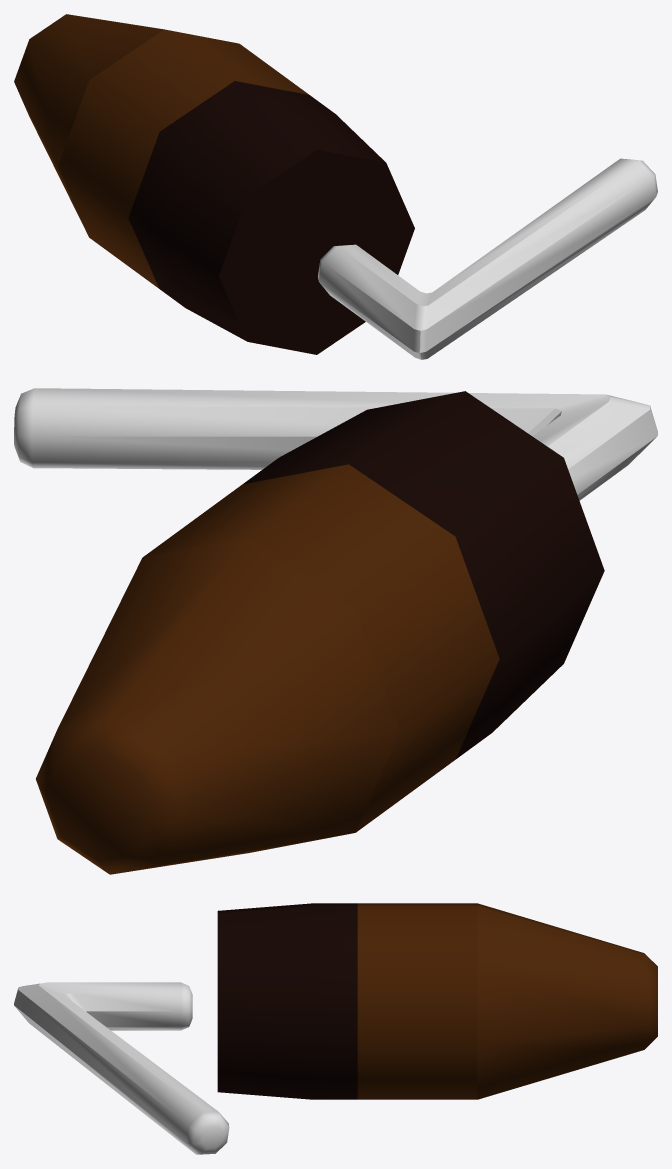
The model's file is BulletBoune.fbx.
3 views of the same model, one above another, from view 1: azimuth 30°, elevation 25°; view 2: azimuth 150°, elevation 25°; view 3: azimuth 270°, elevation 25° (orthographic). The views are drawn at different scales.
Parts seen in each view (by area): view 1: FastBullet1; view 2: FastBullet1; view 3: FastBullet1.
Part boxes in pixels (x1,y1,x2,y2): FastBullet1: (14, 14, 657, 359); FastBullet1: (14, 388, 657, 874); FastBullet1: (14, 903, 657, 1154).
Size of the model in its own units: 51.7 by 25.39 by 78.2.
